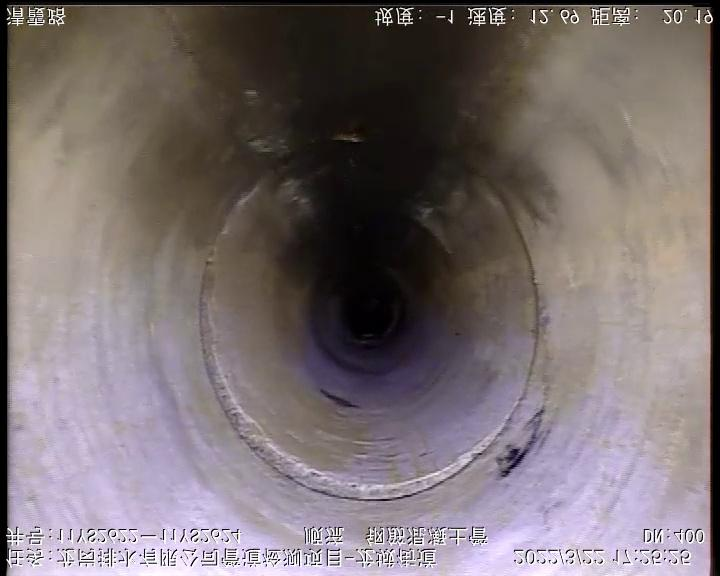CKTJ: (200, 183, 504, 501)
